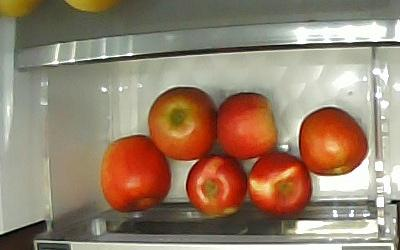apple: (98, 133, 172, 213), (147, 85, 217, 161), (297, 105, 368, 176), (245, 149, 313, 217), (214, 90, 278, 160), (184, 152, 248, 216)
